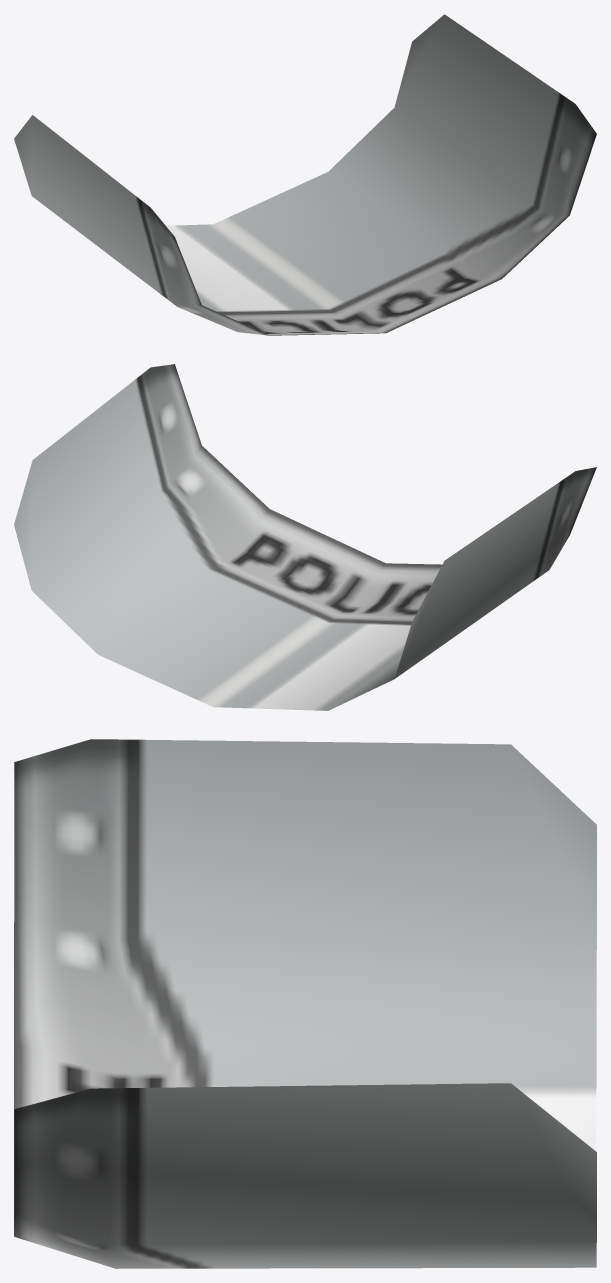
File: Swat02_High_dc7adfe8__Swat01_e45444ac_c1f257.obj
The picture shows the model from 3 angles, top to bottom: view 1: azimuth 30°, elevation 25°; view 2: azimuth 150°, elevation 25°; view 3: azimuth 270°, elevation 25°; orthographic projection. The views are drawn at different scales.
Size of the model in its own units: 0.7979 by 0.3204 by 0.5626.
1 material, 1 textured.
